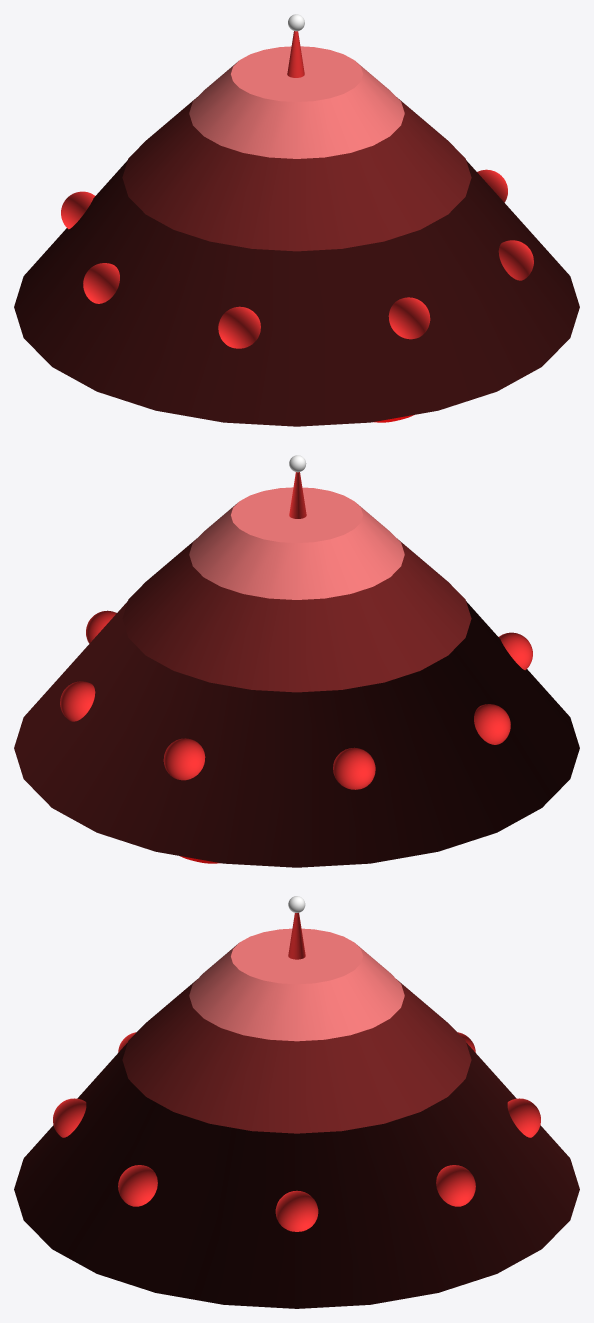
3 views of the same model, one above another, from view 1: azimuth 30°, elevation 25°; view 2: azimuth 150°, elevation 25°; view 3: azimuth 270°, elevation 25° (orthographic).
Visible parts, largest first — view 1: Sphere014; view 2: Sphere014; view 3: Sphere014.
Boxes of the visible parts, x1,y1,x2,y2 form: Sphere014: (14,14,579,426); Sphere014: (14,455,579,867); Sphere014: (14,896,579,1308).
Size of the model in its own units: 81.64 by 56 by 81.64.
